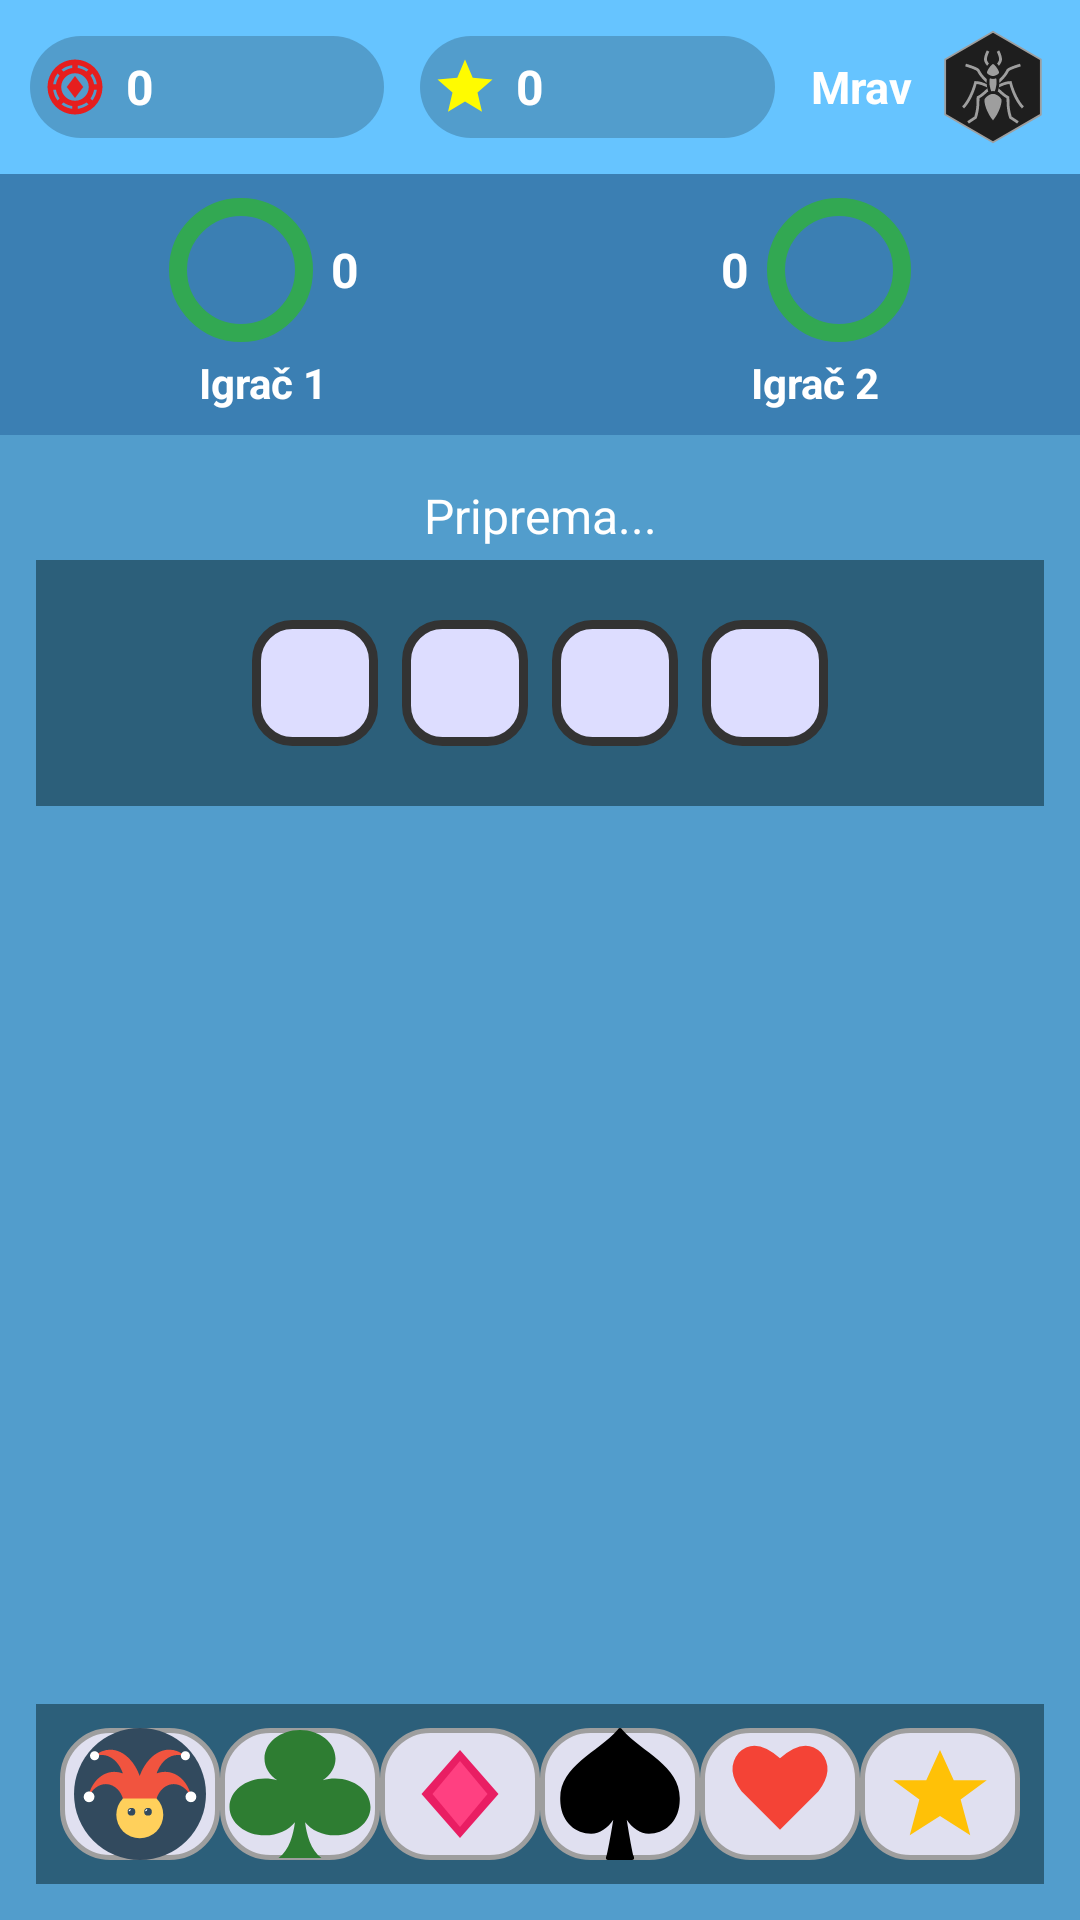

Icon bounding boxes for this 1080px×1920px phone screenshot, format (x1, y1, x2, y2):
herc: (700, 1728, 860, 1860)
karo: (380, 1728, 540, 1860)
pik: (540, 1728, 700, 1860)
Tokeni: (47, 59, 103, 115)
tref: (220, 1728, 380, 1860)
zvezda: (860, 1728, 1020, 1860)
Zvezde: (438, 60, 492, 112)
